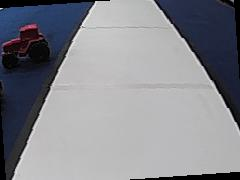Tracktor: (1, 22, 52, 67)
